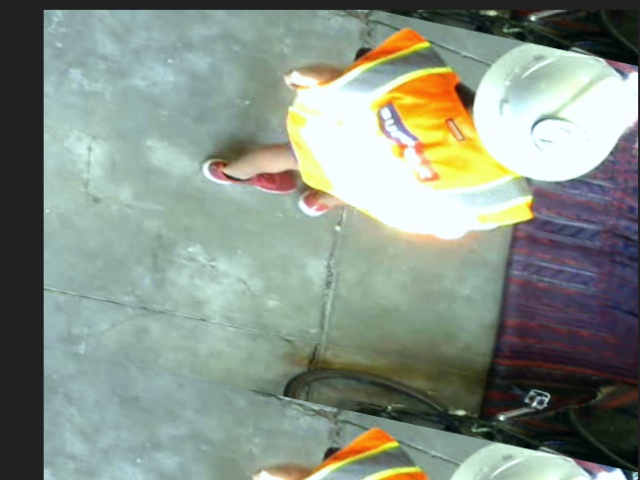two: (528, 113, 594, 163)
